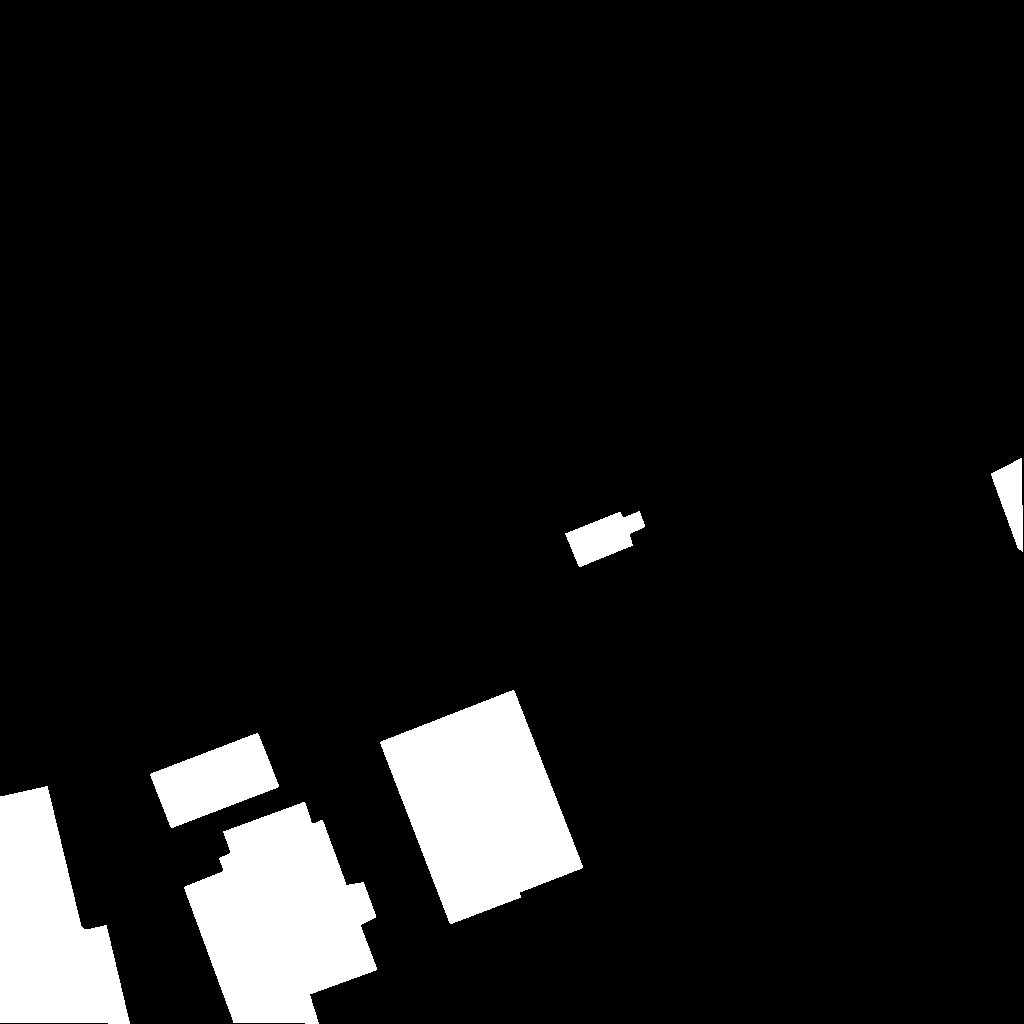building: (380, 690, 584, 925), (184, 802, 378, 1024), (0, 786, 131, 1024), (150, 733, 280, 829), (565, 511, 646, 568), (991, 458, 1024, 553)
